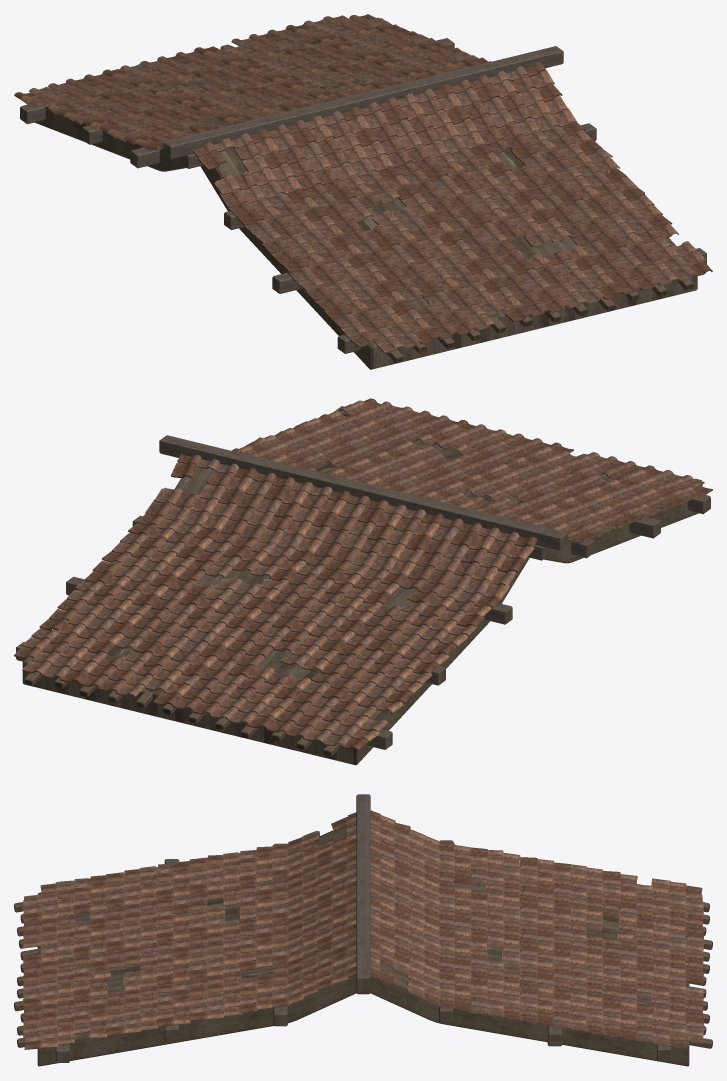
File: SM_Roof_big_3_01.fbx
The picture shows the model from 3 angles, top to bottom: view 1: azimuth 30°, elevation 25°; view 2: azimuth 150°, elevation 25°; view 3: azimuth 270°, elevation 25°; orthographic projection. The views are drawn at different scales.
Parts seen in each view (by area): view 1: SM_Roof_big_3_01_LOD0; view 2: SM_Roof_big_3_01_LOD0; view 3: SM_Roof_big_3_01_LOD0.
Part boxes in pixels (x1,y1,x2,y2): SM_Roof_big_3_01_LOD0: (14,14,712,369); SM_Roof_big_3_01_LOD0: (14,398,712,765); SM_Roof_big_3_01_LOD0: (14,794,712,1066).
Size of the model in its own units: 900 by 1447 by 240.
Materials: 4 (4 with a texture image).
